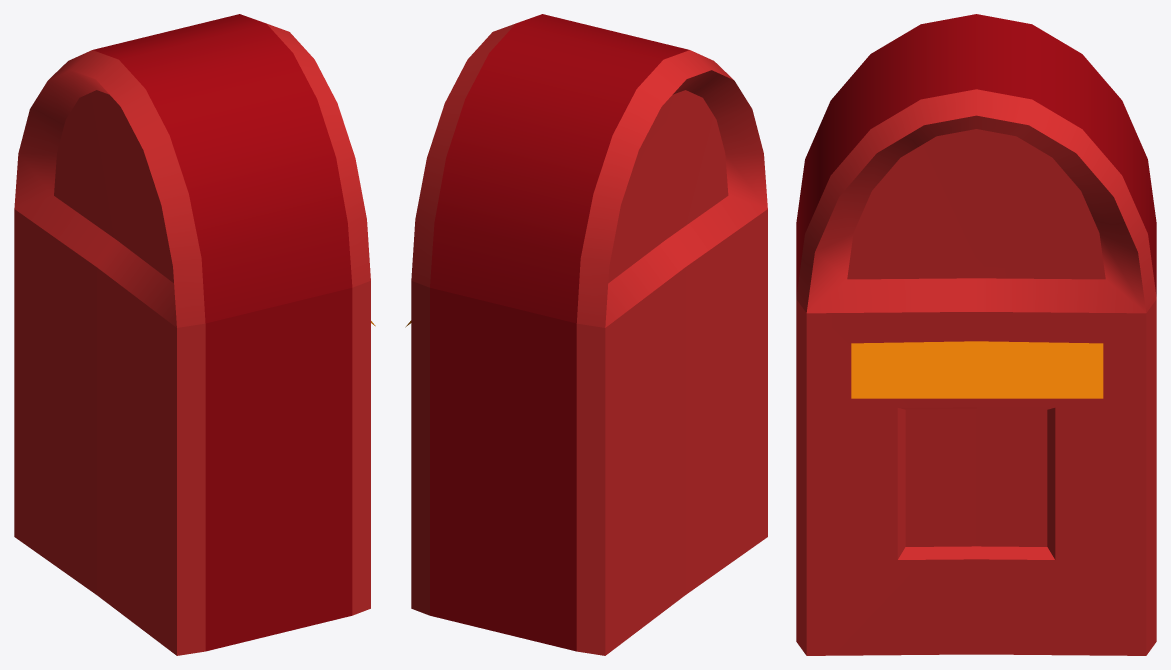
Rendered from SM_Post_Box2.fbx.
3 renders of one model, left to right at view 1: azimuth 30°, elevation 25°; view 2: azimuth 150°, elevation 25°; view 3: azimuth 270°, elevation 25°, orthographic. The views are drawn at different scales.
Visible parts, largest first — view 1: SM_Post_Box2; view 2: SM_Post_Box2; view 3: SM_Post_Box2.
Part boxes in pixels (x1,y1,x2,y2): SM_Post_Box2: (14,14,375,655); SM_Post_Box2: (405,14,767,655); SM_Post_Box2: (796,14,1156,655).
Size of the model in its own units: 33.62 by 77.24 by 45.48.
